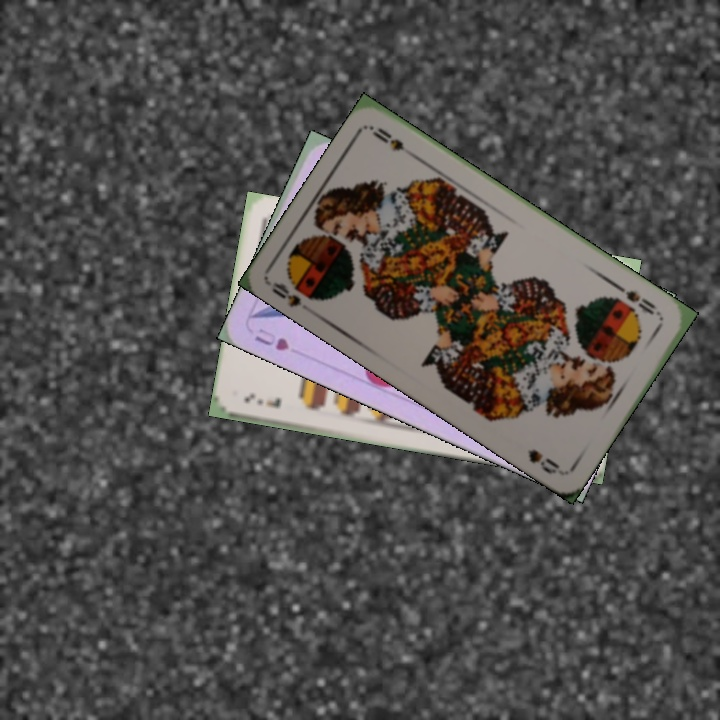E7: (240, 389, 284, 411)
HU: (251, 323, 292, 354)
SO: (612, 281, 665, 322), (268, 277, 326, 310)
